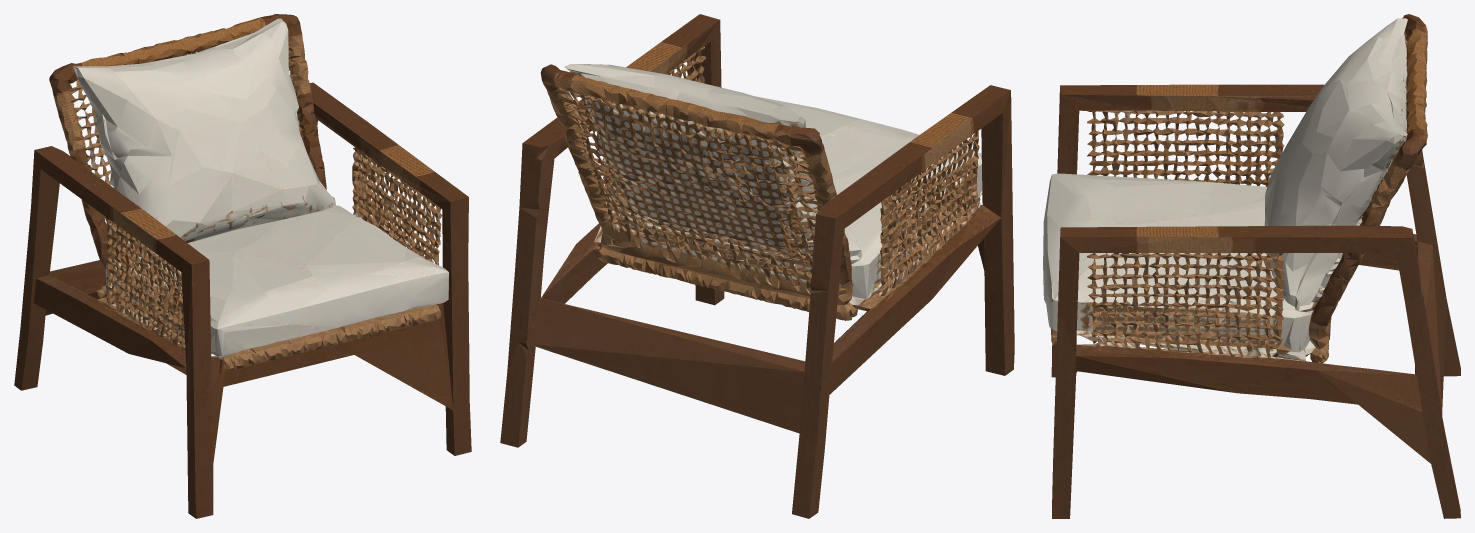
Rendered from terracoChair.glb.
3 views of the same model, side by side, from view 1: azimuth 30°, elevation 25°; view 2: azimuth 150°, elevation 25°; view 3: azimuth 270°, elevation 25° (orthographic). The views are drawn at different scales.
Size of the model in its own units: 1.65 by 1.86 by 1.9.
Materials: 1 (1 with a texture image).
